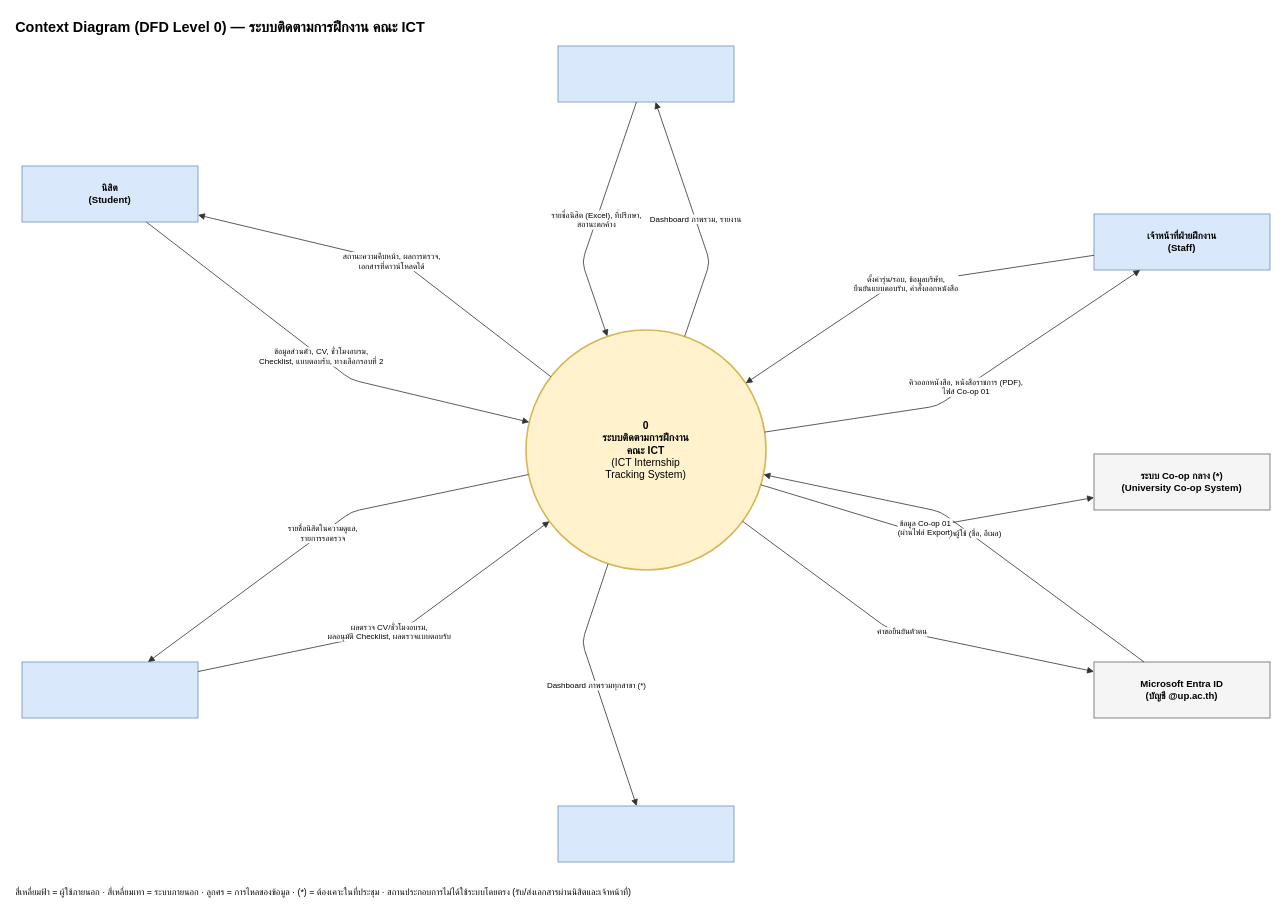
Some shapes in this 1284 by 919 pixel diagram are drawn without their labels. The shapes that lost their labels are listed below. From the top down, each one's centre as x and y in pixels, then its label:
(645,73): อาจารย์ประจำวิชา (Course Admin)
(109,689): อาจารย์ที่ปรึกษา (Advisor)
(645,833): ผู้บริหาร (PM) (*) (Executive)
